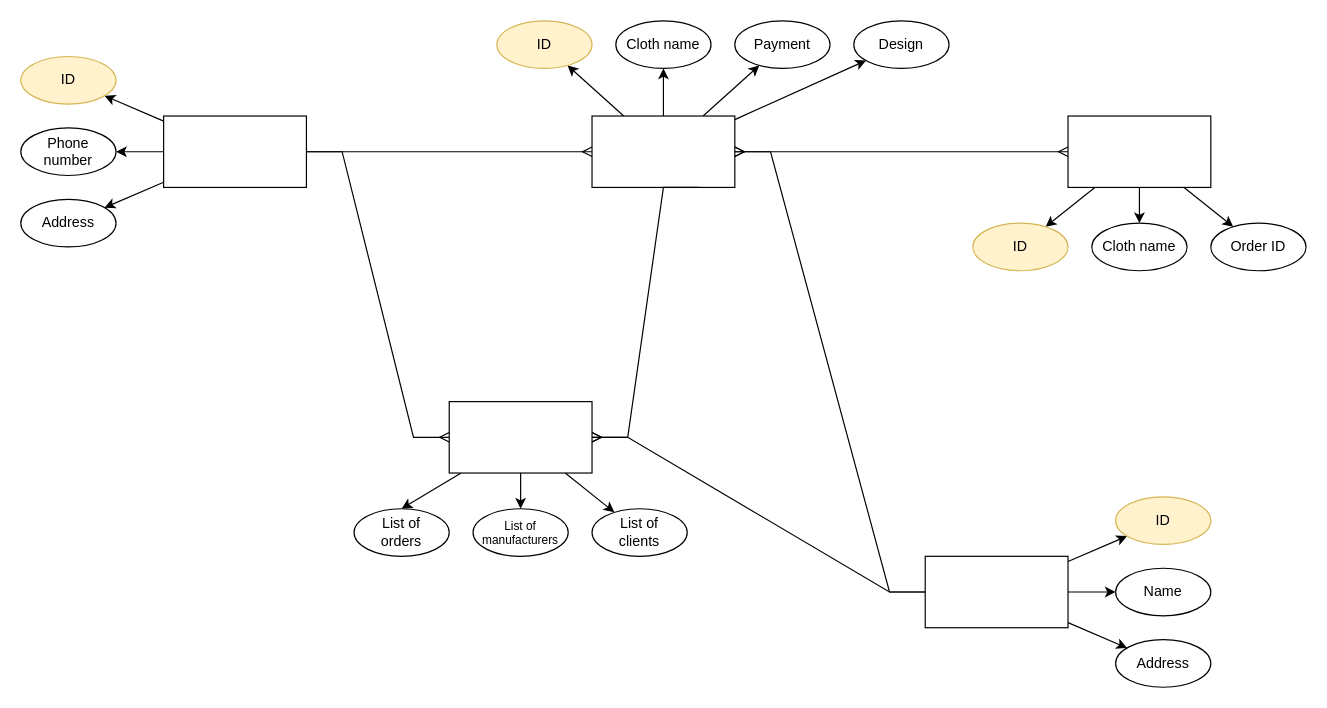
This 1327x708 diagram has some shape labels left out. Each missing label, with the centre of its shape:
"Application" belongs at point (520, 436).
"Client" belongs at point (234, 151).
"Manufacturer" belongs at point (996, 591).
"Order" belongs at point (663, 151).
"Product" belongs at point (1139, 151).
